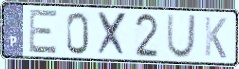0: (65, 10, 91, 56)
2: (133, 11, 160, 59)
E: (27, 8, 60, 56)
K: (203, 15, 228, 61)
U: (165, 13, 198, 60)
X: (96, 10, 129, 58)
